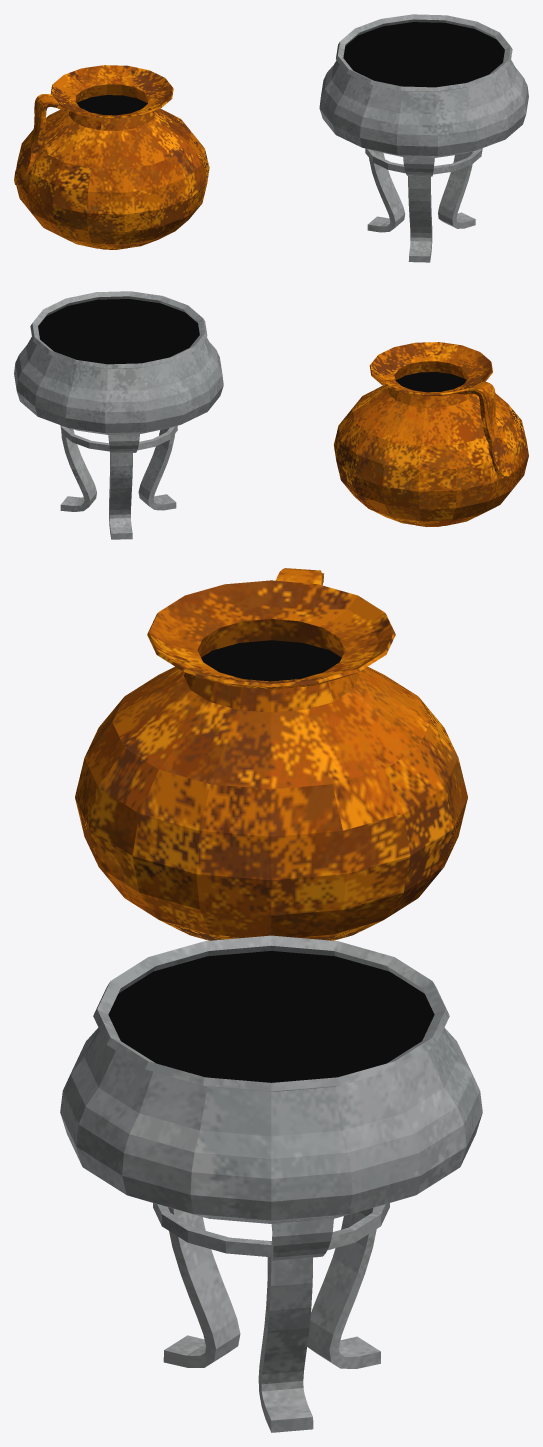
The model's file is Einrichtung.fbx.
3 views of the same model, one above another, from view 1: azimuth 30°, elevation 25°; view 2: azimuth 150°, elevation 25°; view 3: azimuth 270°, elevation 25° (orthographic). The views are drawn at different scales.
Visible parts, largest first — view 1: Töpfe auf Metallgestell, Kugelige Bronzekanne; view 2: Töpfe auf Metallgestell, Kugelige Bronzekanne; view 3: Töpfe auf Metallgestell, Kugelige Bronzekanne.
Boxes of the visible parts, x1,y1,x2,y2 form: Töpfe auf Metallgestell: (319,14,528,262); Kugelige Bronzekanne: (14,65,209,249); Töpfe auf Metallgestell: (14,291,223,539); Kugelige Bronzekanne: (334,342,528,526); Töpfe auf Metallgestell: (60,935,482,1432); Kugelige Bronzekanne: (75,568,467,940).
Size of the model in its own units: 576 by 252 by 215.
Materials: 3 (2 with a texture image).
